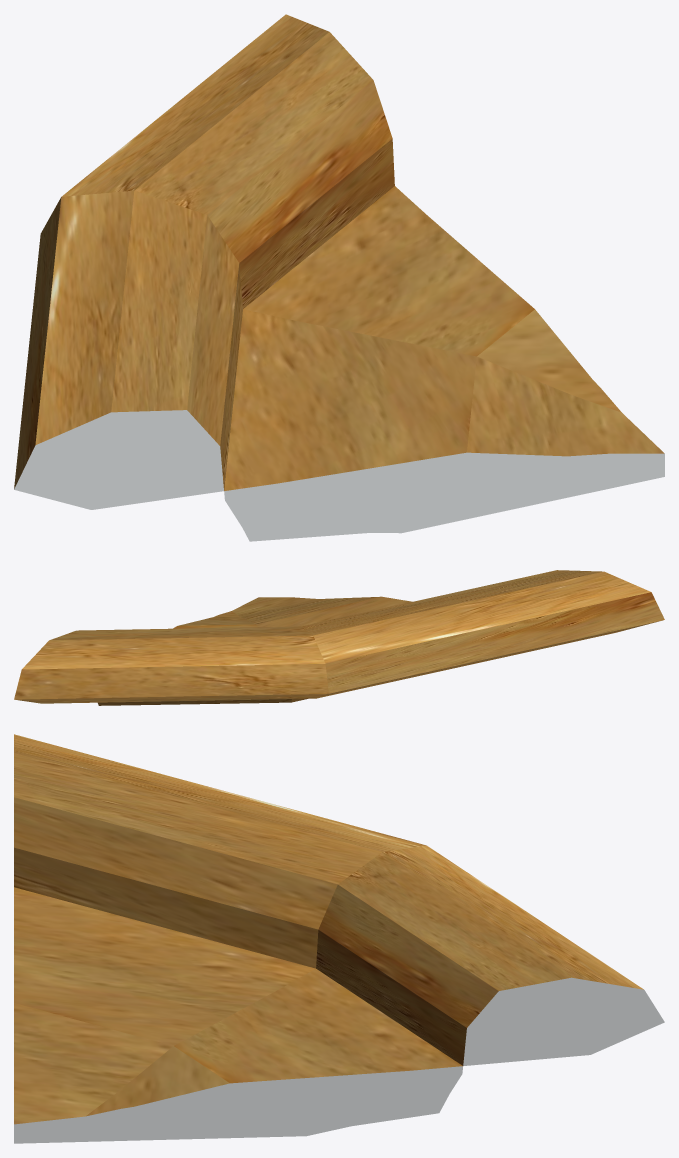
The model's file is rec1.gltf.
3 views of the same model, one above another, from view 1: azimuth 30°, elevation 25°; view 2: azimuth 150°, elevation 25°; view 3: azimuth 270°, elevation 25° (orthographic). The views are drawn at different scales.
Visible parts, largest first — view 1: 평면; view 2: 평면; view 3: 평면.
Part boxes in pixels (box(x1,y1,x2,y2)): 평면: box(14, 14, 664, 541); 평면: box(14, 570, 664, 705); 평면: box(14, 734, 664, 1143).
Bounding box in the file's own units: 0.3303 × 0.0968 × 0.3439.
Materials: 1 (1 with a texture image).
